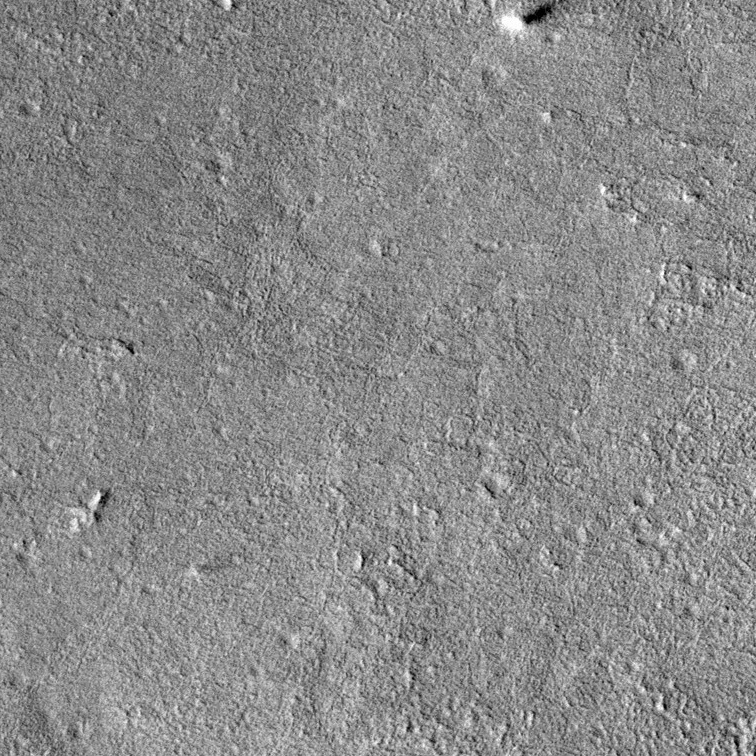dust_devil: (497, 1, 567, 37)
